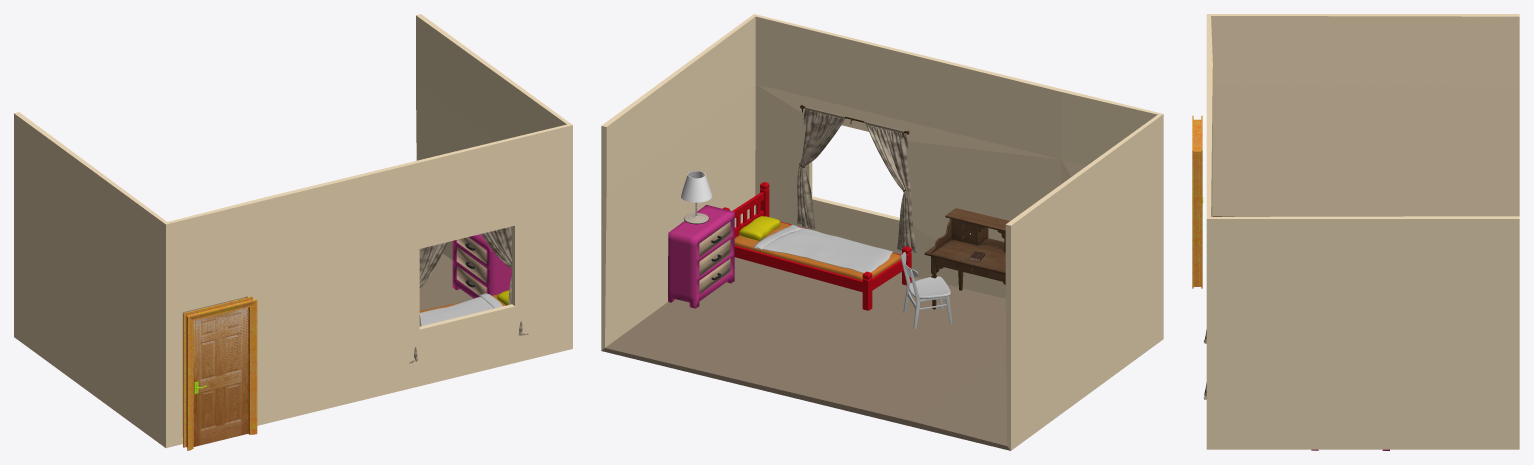
Rendered from PType_EME.fbx.
The picture shows the model from 3 angles, left to right: view 1: azimuth 30°, elevation 25°; view 2: azimuth 150°, elevation 25°; view 3: azimuth 270°, elevation 25°; orthographic projection. The views are drawn at different scales.
Parts seen in each view (by area): view 1: Cube.010, Material2.002, Material2, BEDSIDE TABLE, Material2.003, Bed, Material2.001, polySurface3332, polySurface3333; view 2: Cube.010, Bed, BEDSIDE TABLE, Table_17, polySurface3333, polySurface3332, Chair_11, polySurface4; view 3: Cube.010, Material2, Material2.001.
Part boxes in pixels (bbox=[...]): Cube.010: bbox=[14, 14, 572, 447]; Material2.002: bbox=[193, 307, 248, 446]; Material2: bbox=[183, 296, 257, 450]; BEDSIDE TABLE: bbox=[452, 234, 511, 298]; Material2.003: bbox=[193, 308, 248, 443]; Bed: bbox=[419, 290, 509, 326]; Material2.001: bbox=[183, 297, 257, 448]; polySurface3332: bbox=[481, 226, 528, 335]; polySurface3333: bbox=[409, 242, 447, 363]; Cube.010: bbox=[601, 14, 1163, 450]; Bed: bbox=[722, 182, 911, 310]; BEDSIDE TABLE: bbox=[668, 205, 734, 308]; Table_17: bbox=[924, 208, 1009, 309]; polySurface3333: bbox=[864, 121, 916, 252]; polySurface3332: bbox=[797, 106, 845, 228]; Chair_11: bbox=[900, 252, 952, 329]; polySurface4: bbox=[681, 171, 712, 224]; Cube.010: bbox=[1206, 14, 1519, 449]; Material2: bbox=[1192, 115, 1202, 288]; Material2.001: bbox=[1192, 117, 1203, 286].
Size of the model in its own units: 20591 by 10896 by 13912.
